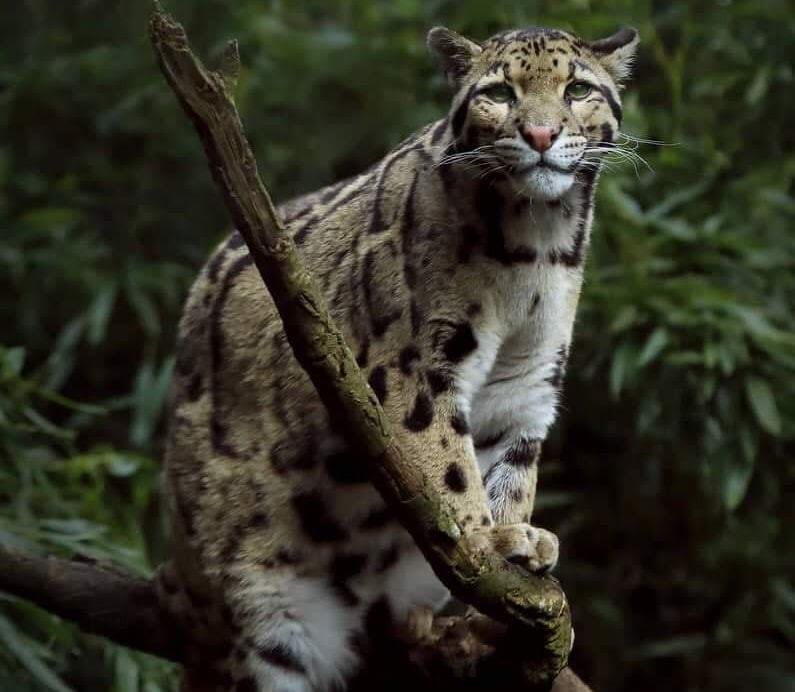cat: (138, 13, 654, 689)
